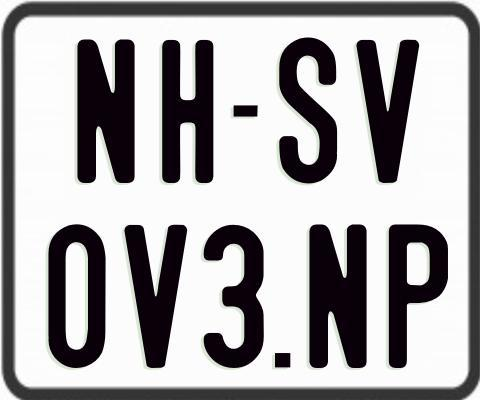0: (45, 222, 105, 371)
3: (204, 223, 268, 370)
H: (162, 37, 213, 186)
N: (309, 223, 370, 369), (76, 37, 136, 184)
P: (387, 222, 451, 372)
S: (276, 36, 334, 187)
V: (123, 224, 189, 370), (355, 39, 421, 184)
